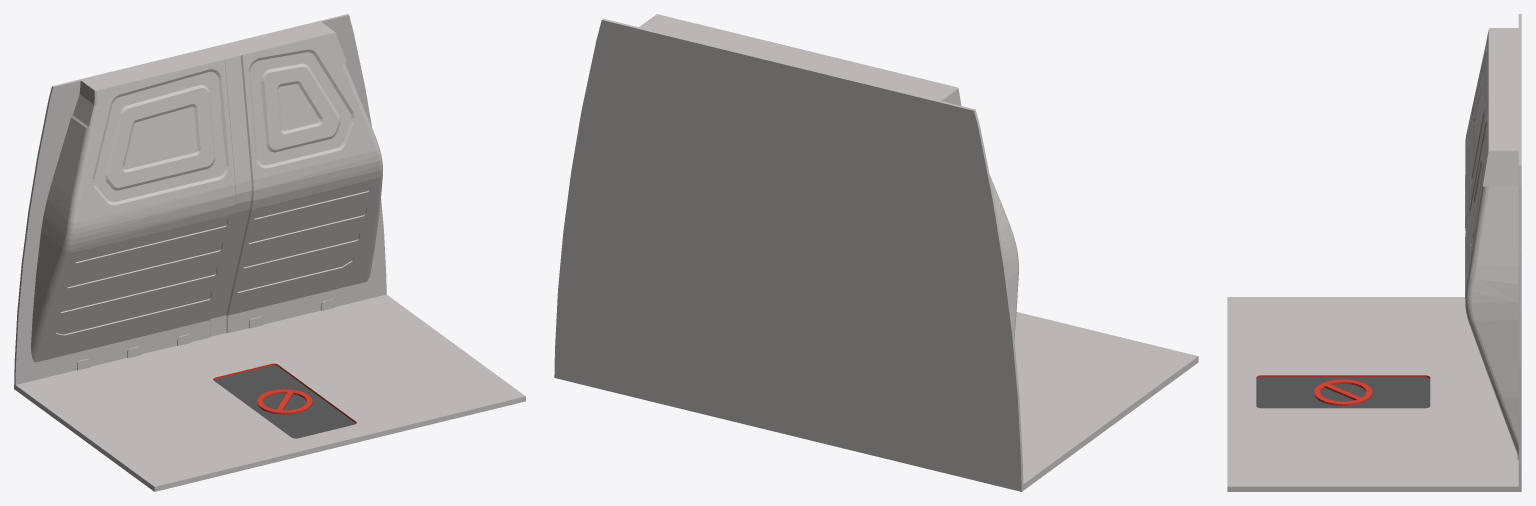
File: Nissan_Townstar_NI24_2022-_B.glb
3 views of the same model, side by side, from view 1: azimuth 30°, elevation 25°; view 2: azimuth 150°, elevation 25°; view 3: azimuth 270°, elevation 25° (orthographic). The views are drawn at different scales.
Visible parts, largest first — view 1: RE21_B; view 2: RE21_B; view 3: RE21_B.
Boxes of the visible parts, <box> form: RE21_B: <box>14,14,525,491</box>; RE21_B: <box>554,14,1198,491</box>; RE21_B: <box>1227,14,1521,491</box>.
Size of the model in its own units: 1548 by 1170 by 1015.
